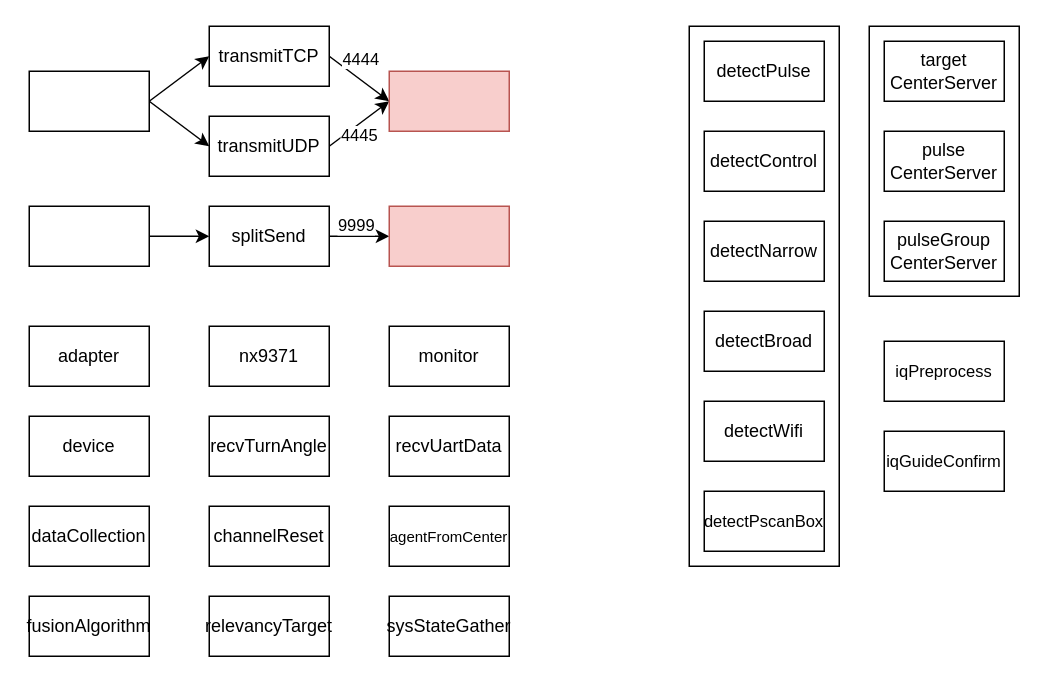
Some shapes in this 1046 by 683 pixel diagram are drawn without their labels. The shapes that lost their labels are listed below. From the top down, each one's box as (x1, y1, x2, y2) in pixels, then its label:
(28, 70, 149, 131): package
(388, 70, 509, 131): 地图软件
(28, 205, 149, 266): pscanDataSend
(388, 205, 509, 266): pscan软件
